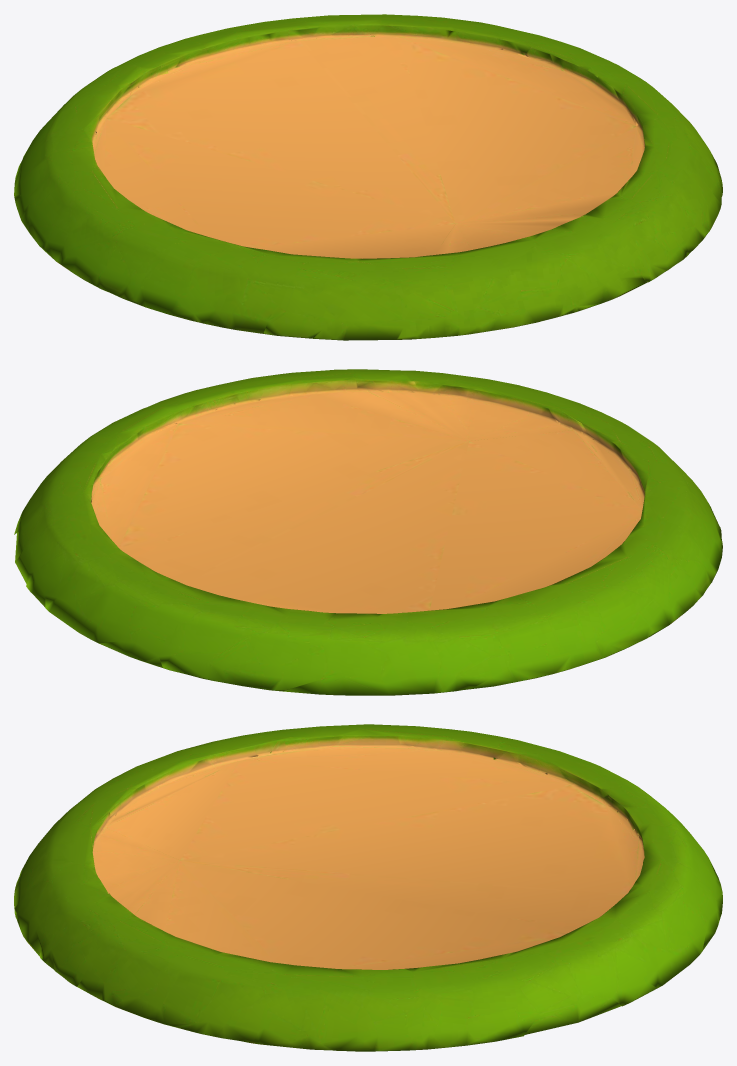
The model's file is hazard_sandpit.glb.
3 views of the same model, one above another, from view 1: azimuth 30°, elevation 25°; view 2: azimuth 150°, elevation 25°; view 3: azimuth 270°, elevation 25° (orthographic).
Size of the model in its own units: 1.91 by 0.1477 by 1.91.
1 material, 1 textured.
